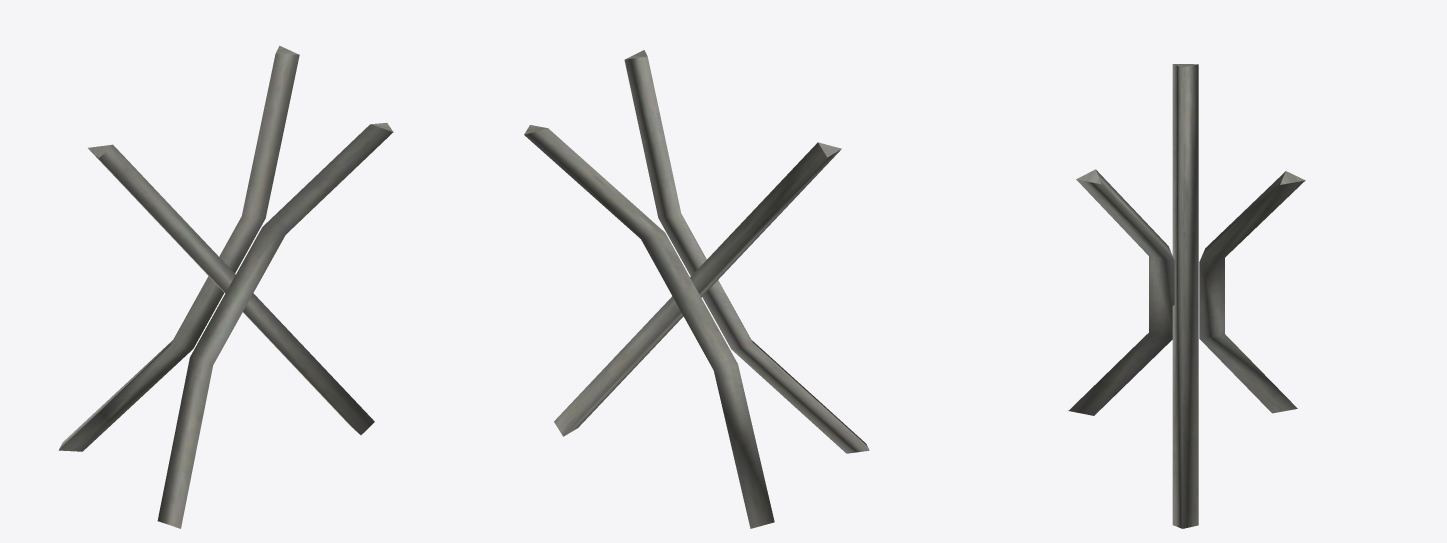
The model's file is eqp_camping_stool_tall_l2.fbx.
The picture shows the model from 3 angles, left to right: view 1: azimuth 30°, elevation 25°; view 2: azimuth 150°, elevation 25°; view 3: azimuth 270°, elevation 25°; orthographic projection. The views are drawn at different scales.
Visible parts, largest first — view 1: mesh_node; view 2: mesh_node; view 3: mesh_node.
Part boxes in pixels (x1,y1,x2,y2): mesh_node: (58,45,393,528); mesh_node: (524,50,869,528); mesh_node: (1068,64,1305,528).
Size of the model in its own units: 0.5291 by 0.4288 by 0.5291.
1 material, 1 textured.
